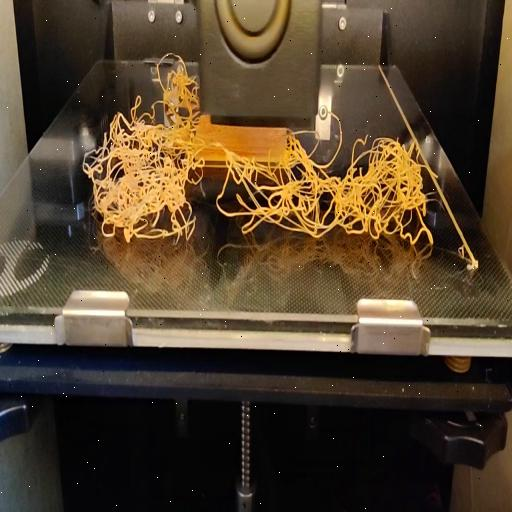spaghetti: (82, 115, 438, 257), (123, 46, 198, 118)
